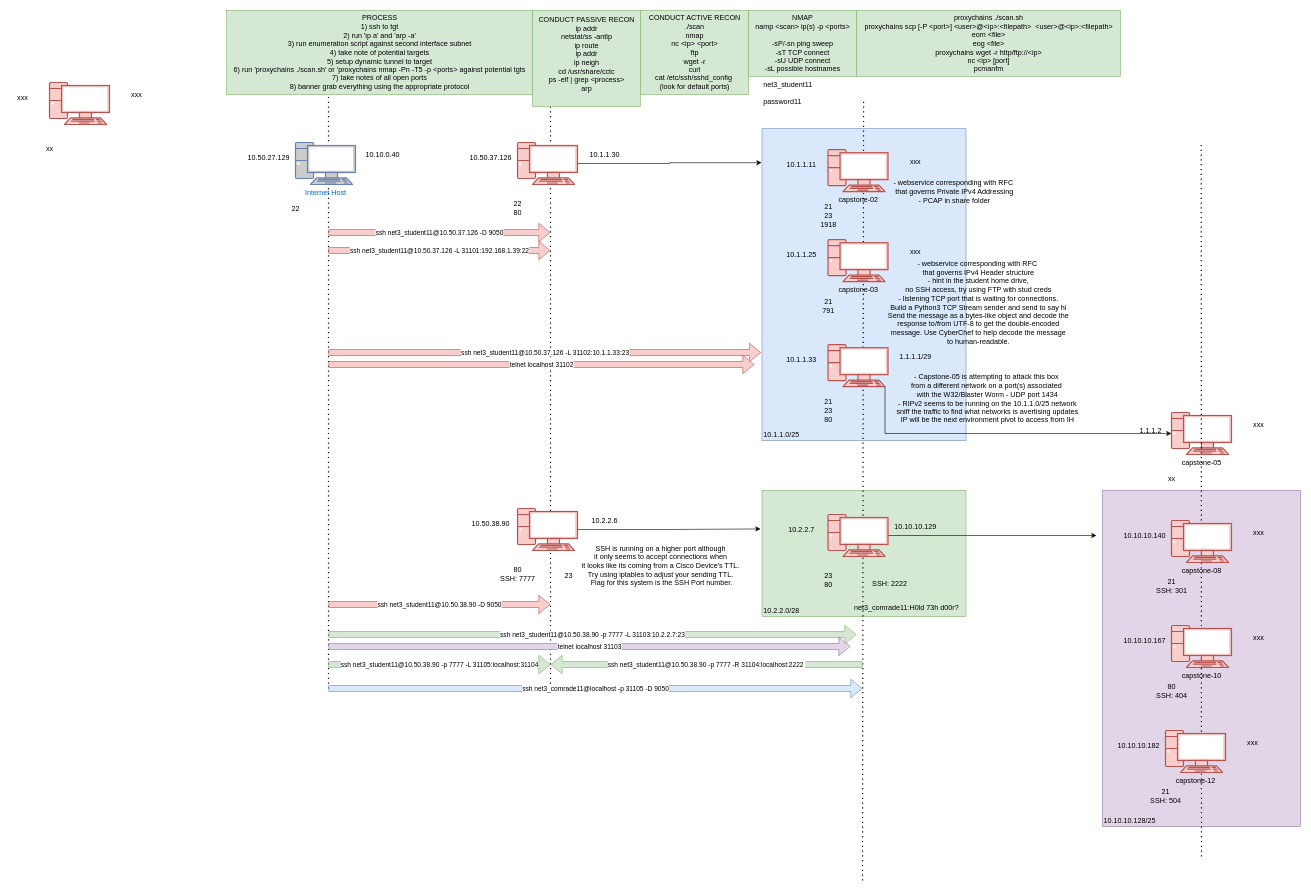
This 1311x892 diagram has some shape labels left out. Each missing label, with the centre of its shape:
"capstone-01" goes at (547,163).
"capstone-04" goes at (857,365).
"capstone-06" goes at (547,529).
"capstone-07" goes at (857,535).
